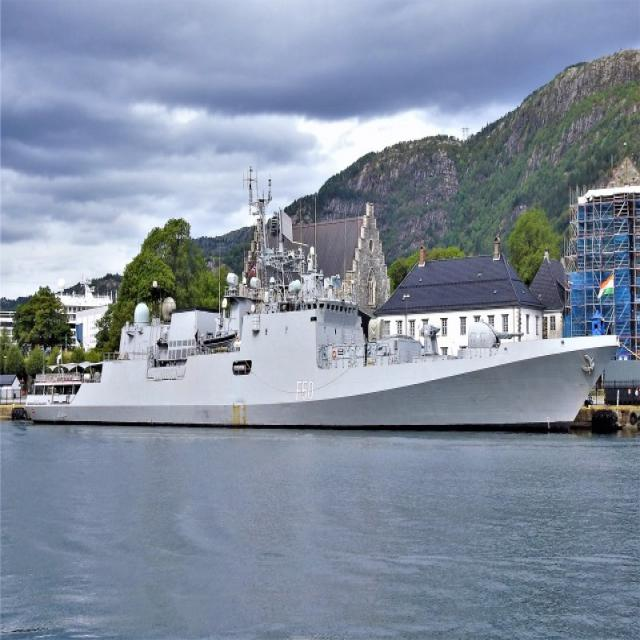Fragata: (21, 171, 628, 442)
